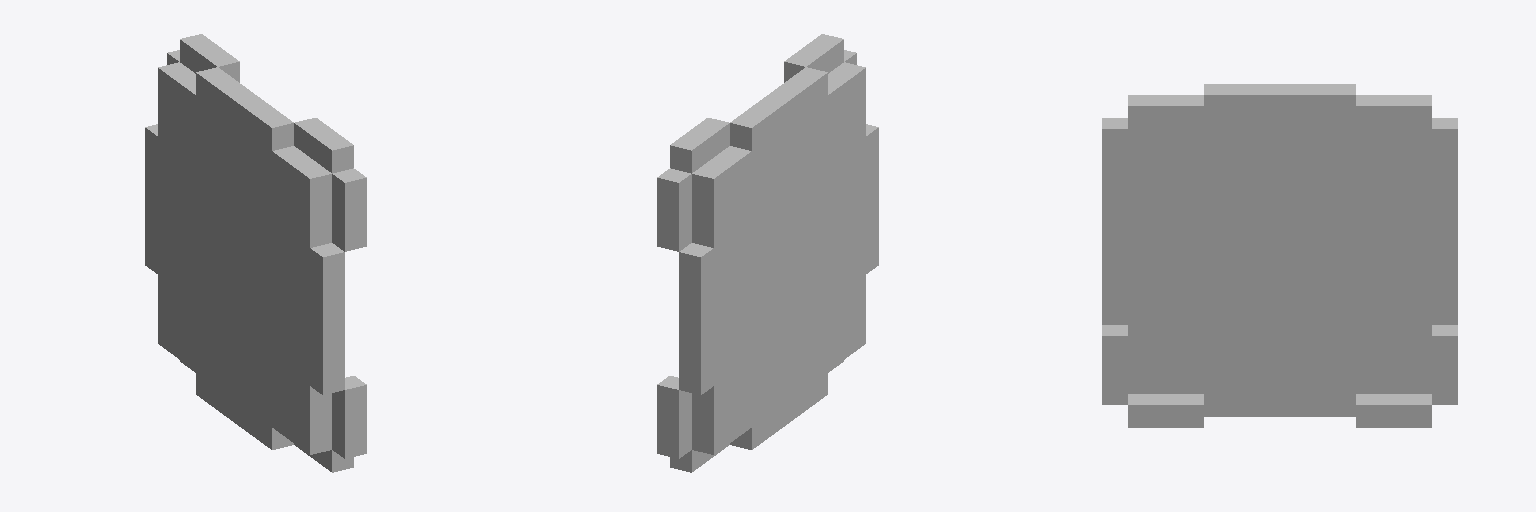
File: side_xm.obj
The picture shows the model from 3 angles: view 1: azimuth 30°, elevation 25°; view 2: azimuth 150°, elevation 25°; view 3: azimuth 270°, elevation 25°; orthographic projection.
Size of the model in its own units: 2 by 14 by 14.